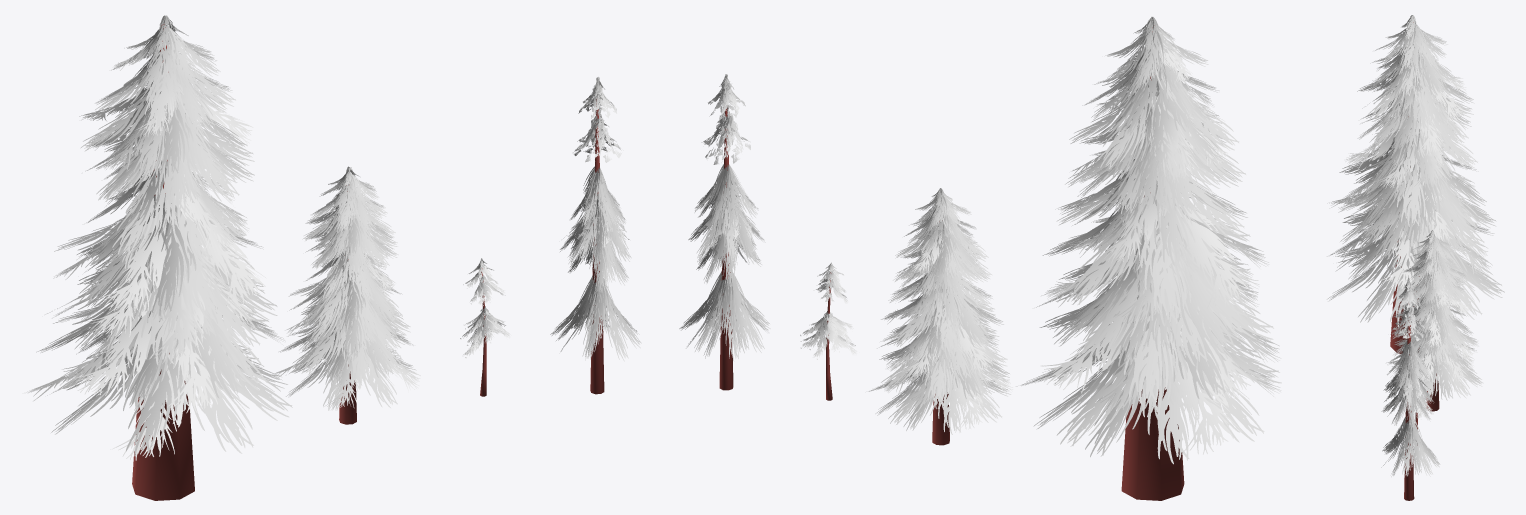
File: Trees.fbx
3 views of the same model, side by side, from view 1: azimuth 30°, elevation 25°; view 2: azimuth 150°, elevation 25°; view 3: azimuth 270°, elevation 25° (orthographic). The views are drawn at different scales.
Parts seen in each view (by area): view 1: Cylinder.004, Cylinder.003, Cylinder.007, Cylinder.000; view 2: Cylinder.004, Cylinder.003, Cylinder.007, Cylinder.000; view 3: Cylinder.004, Cylinder.003, Cylinder.007, Cylinder.000.
Boxes of the visible parts, x1,y1,x2,y2 form: Cylinder.004: (26, 15, 292, 500); Cylinder.003: (274, 166, 420, 424); Cylinder.007: (550, 77, 641, 394); Cylinder.000: (460, 258, 510, 396); Cylinder.004: (1016, 16, 1281, 500); Cylinder.003: (868, 188, 1012, 445); Cylinder.007: (679, 74, 770, 390); Cylinder.000: (800, 262, 856, 400); Cylinder.004: (1327, 15, 1504, 353); Cylinder.003: (1386, 230, 1483, 411); Cylinder.007: (1381, 278, 1440, 500); Cylinder.000: (1401, 351, 1433, 445).
Size of the model in its own units: 2044 by 1567 by 831.
